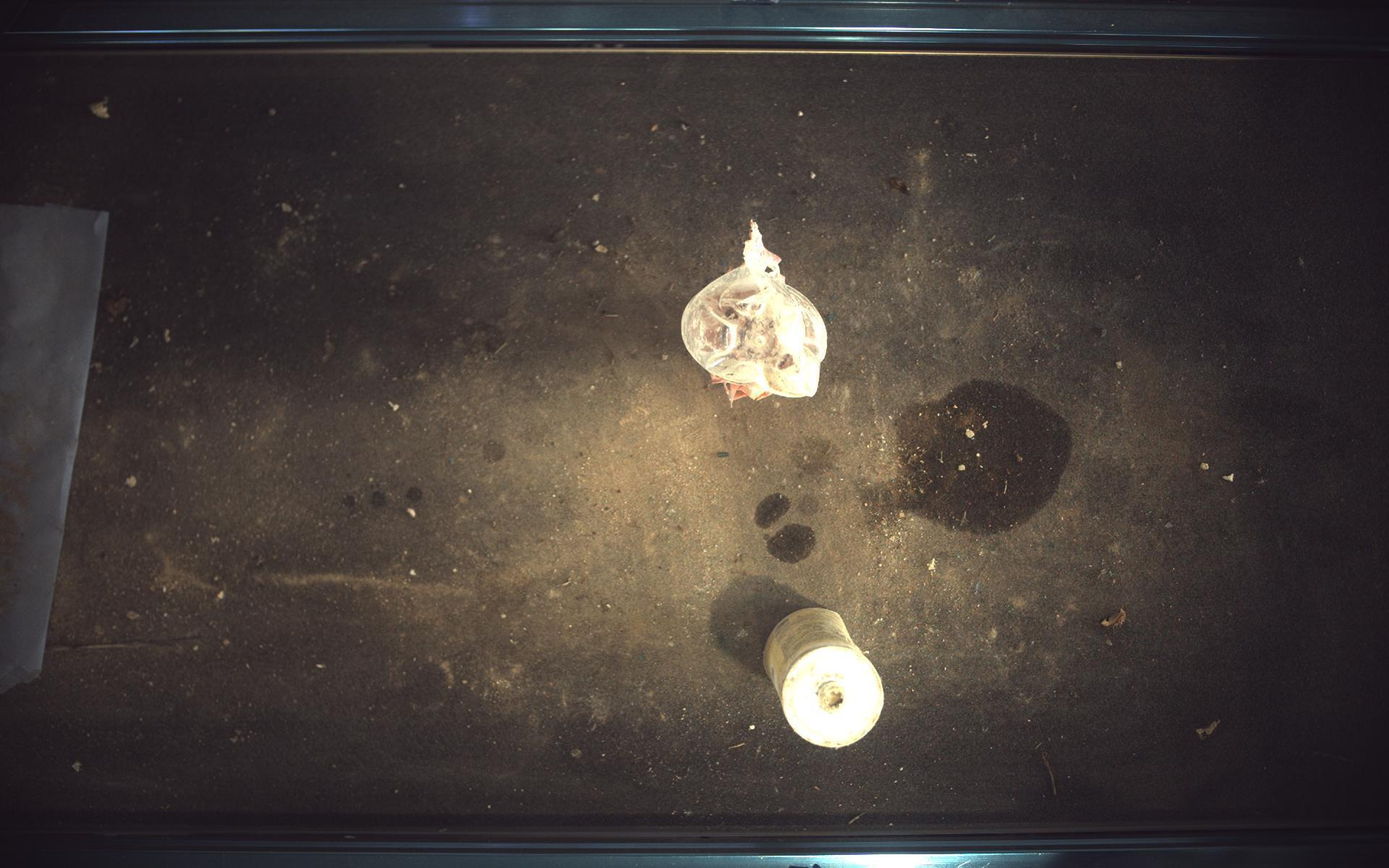general_w: (682, 220, 829, 403)
plastic: (765, 608, 885, 749)
